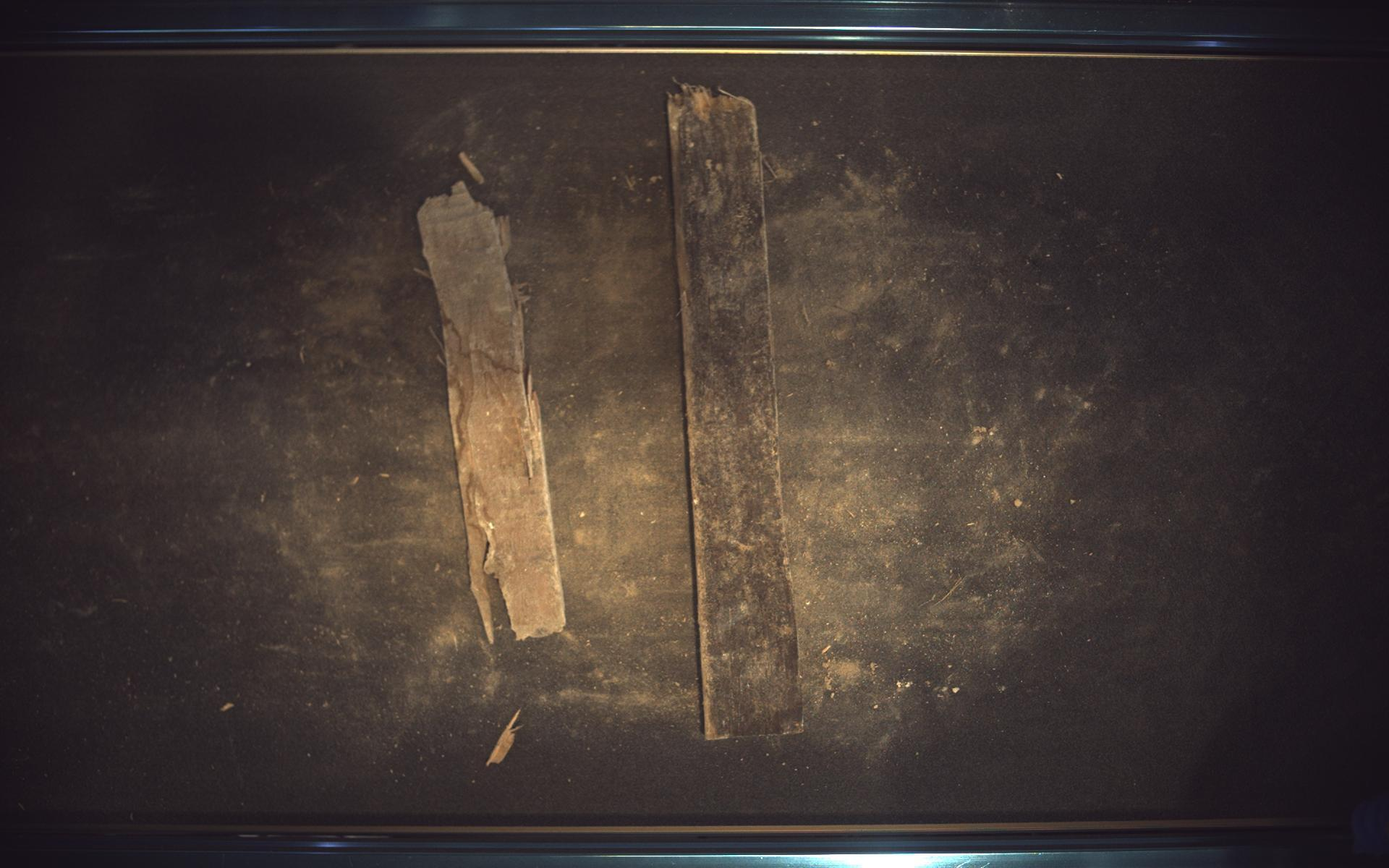wood: (668, 84, 804, 740), (417, 181, 566, 644)
